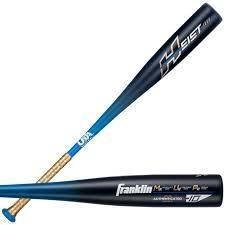Baseball-Bat: (67, 4, 221, 160), (0, 174, 223, 206)
